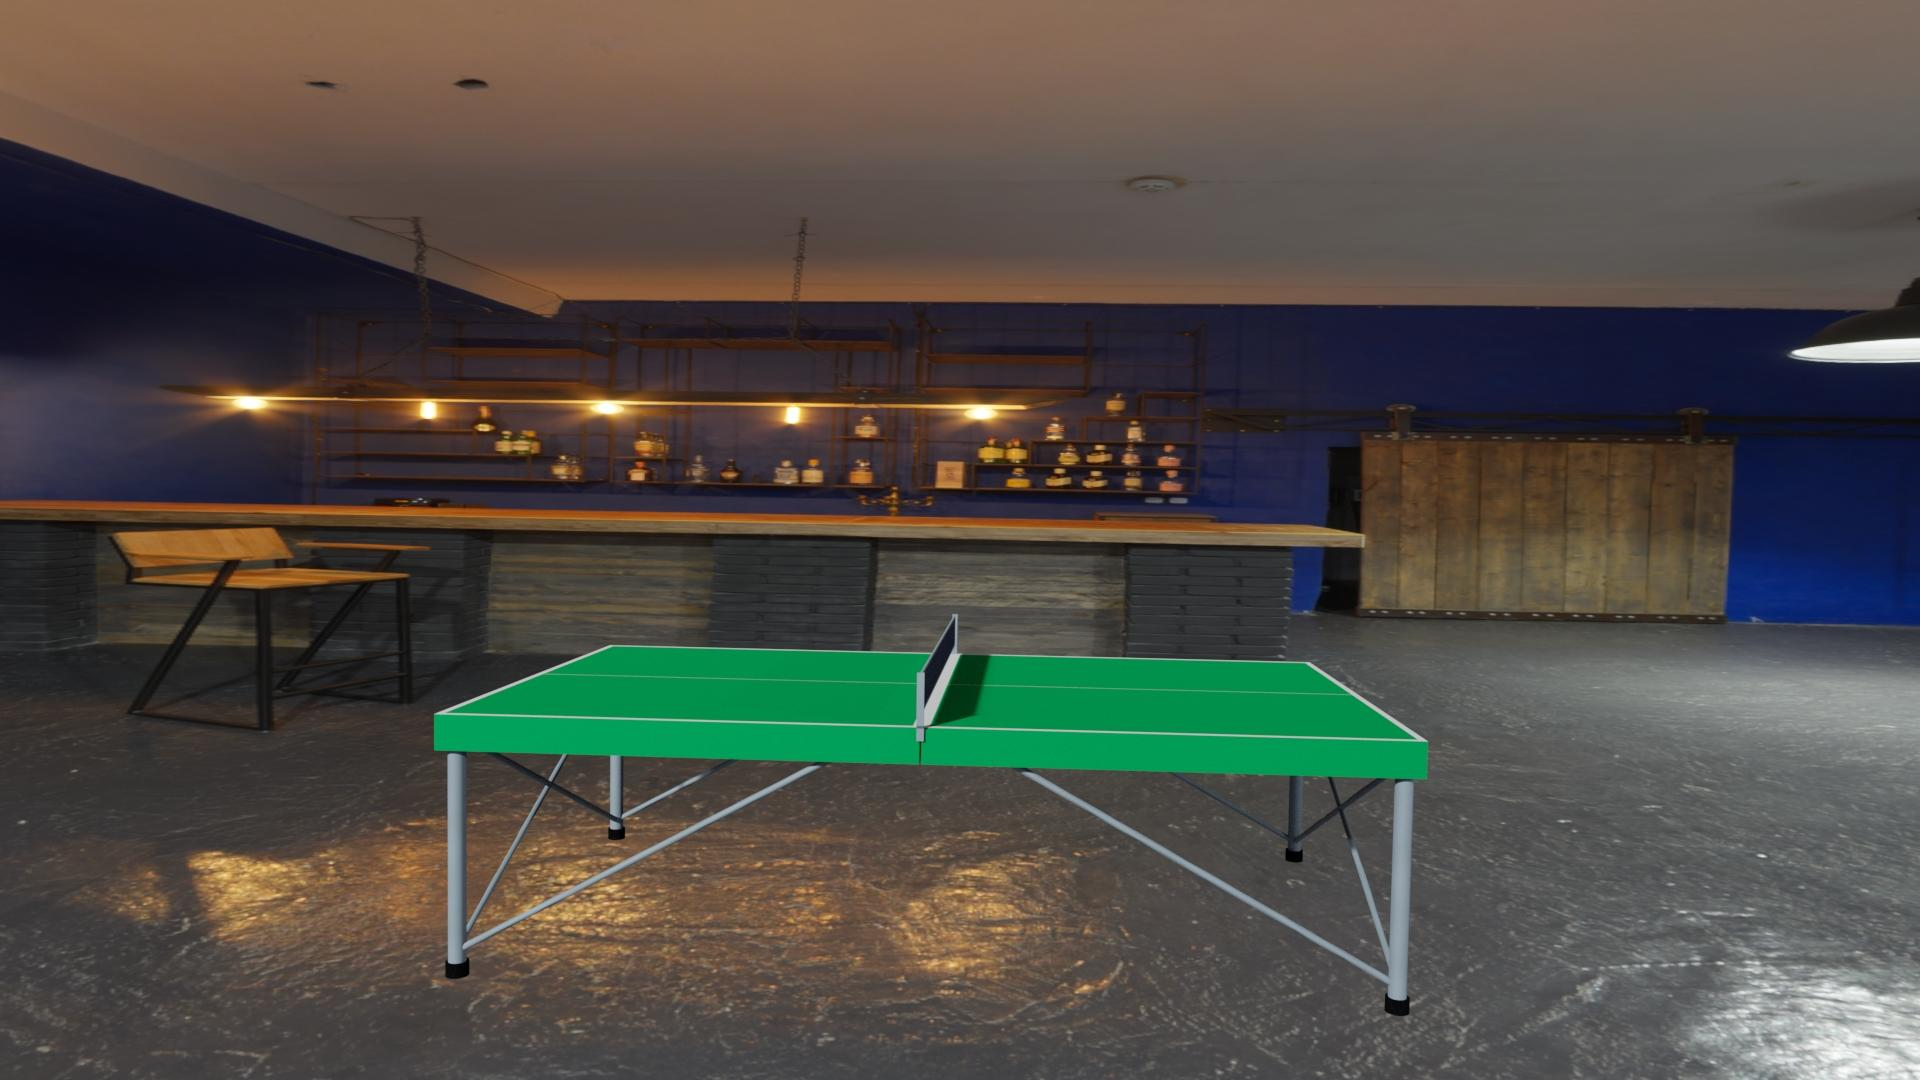table: (444, 646, 1419, 740)
